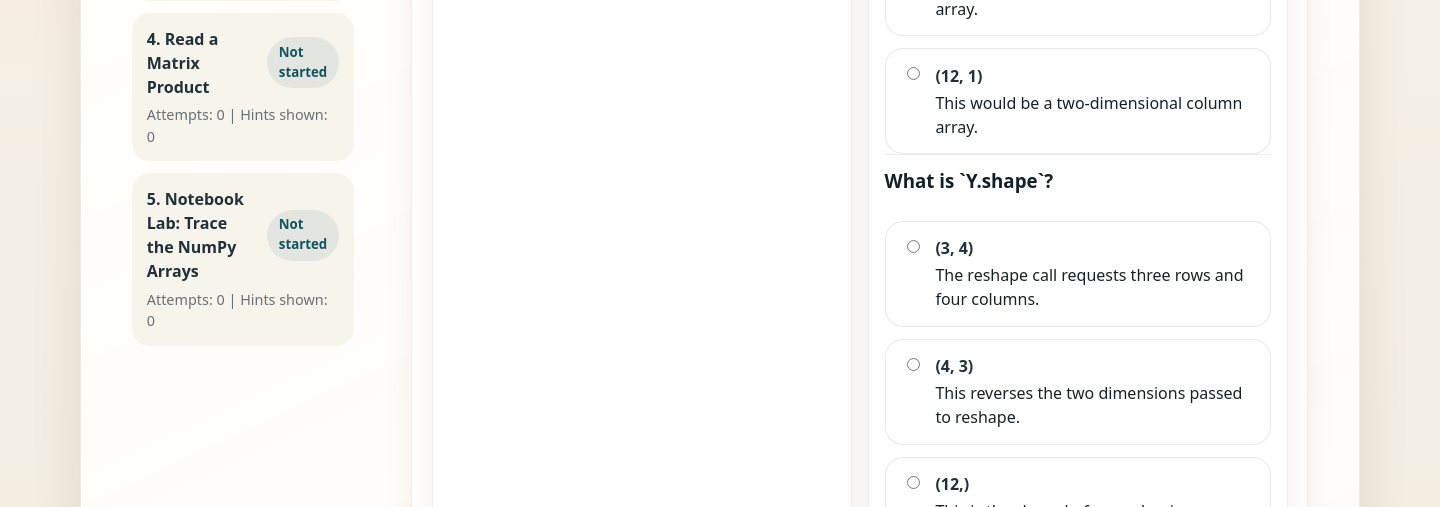
AssignmentPage › lets students jump directly to any question from the sidebar
(page scrolled)
Click the button "5. Notebook Lab: Trace the NumPy Arrays" at coordinates (243, 260), box [132, 173, 354, 346]
(page scrolled)
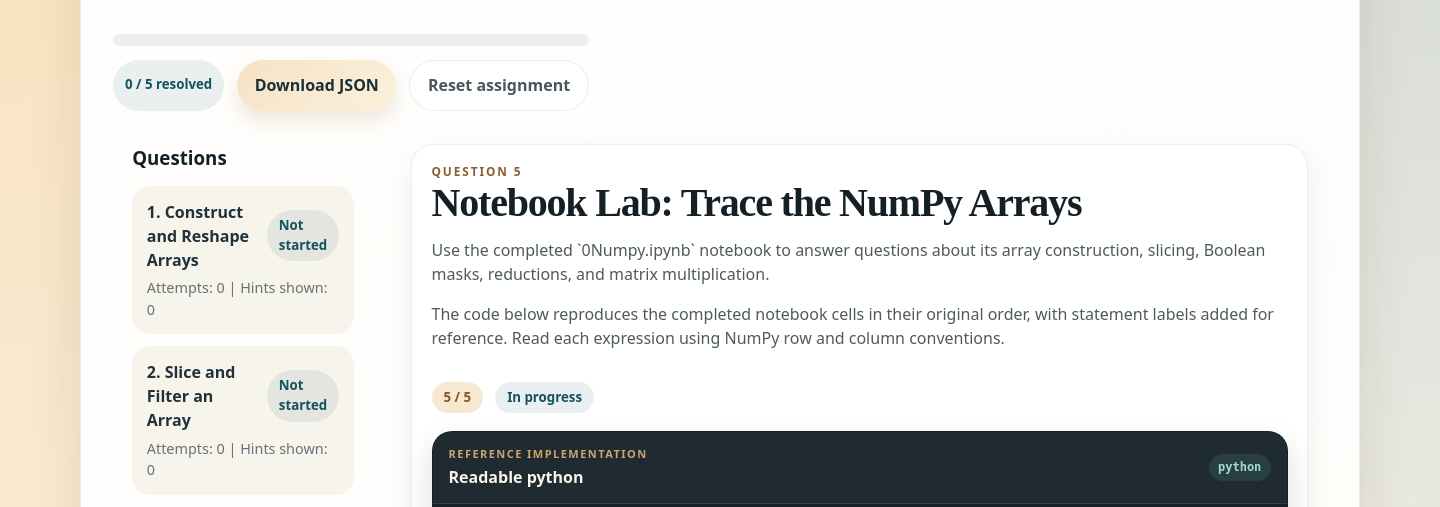
expect the heading "Notebook Lab: Trace the NumPy Arrays" is shown: met, box [432, 180, 1081, 225]
Click the button "1. Construct and Reshape Arrays" at coordinates (243, 260), box [132, 186, 354, 334]
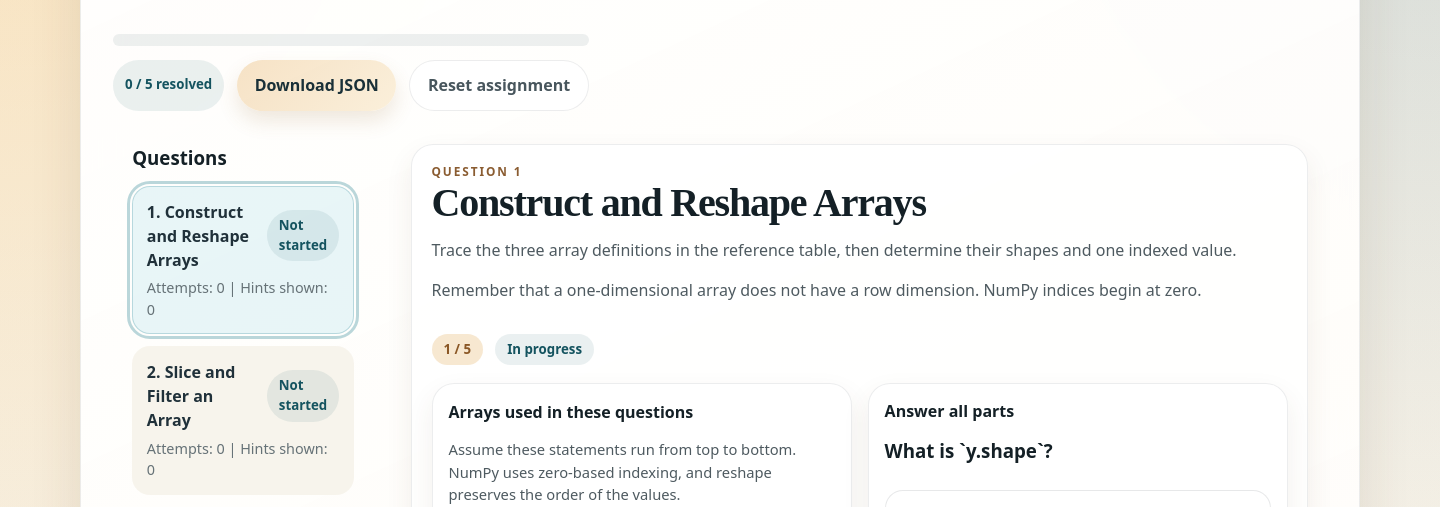
expect the heading "Construct and Reshape Arrays" is shown: met, box [432, 180, 926, 225]
